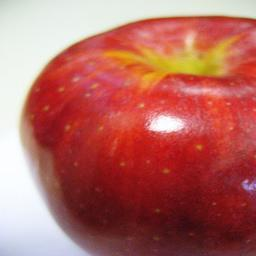apple: (16, 16, 255, 251)
